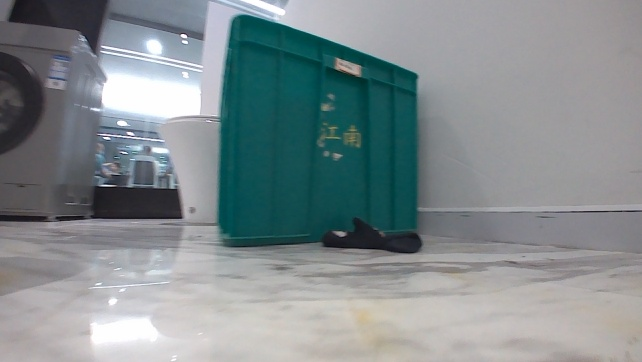refrigerator1: (0, 19, 108, 223)
socks: (320, 212, 424, 255)
toilet: (151, 109, 223, 225)
